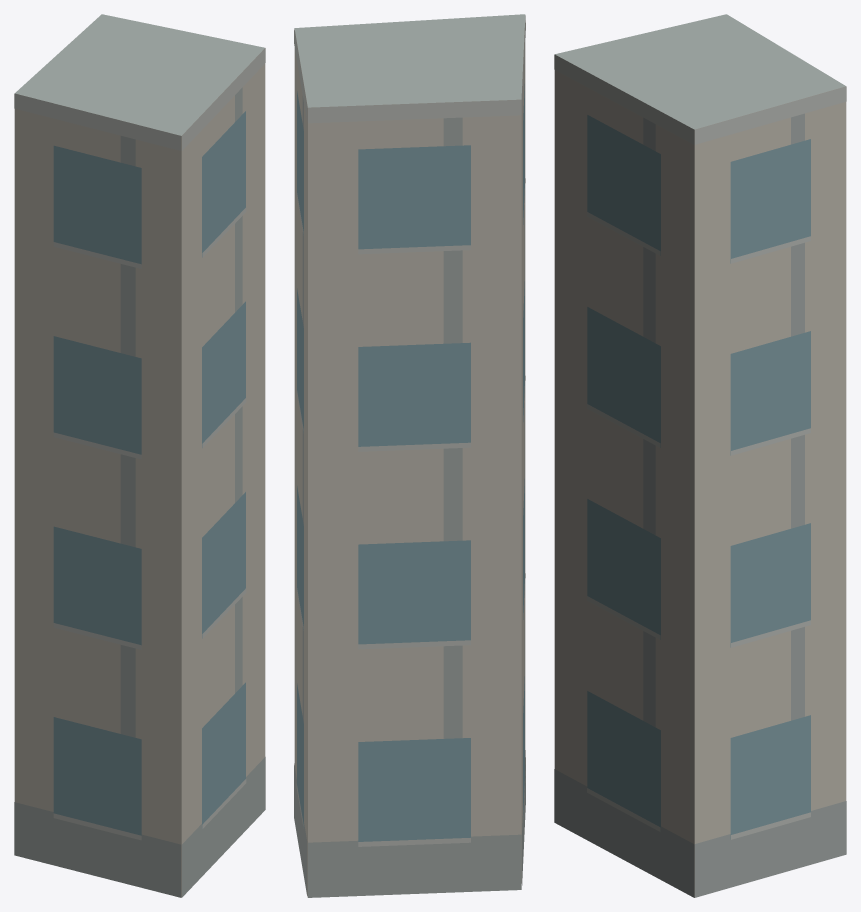
File: survey-upis-32517354.glb
3 renders of one model, left to right at view 1: azimuth 30°, elevation 25°; view 2: azimuth 150°, elevation 25°; view 3: azimuth 270°, elevation 25°, orthographic. The views are drawn at different scales.
Visible parts, largest first — view 1: survey-upis-32517354.tmp; view 2: survey-upis-32517354.tmp; view 3: survey-upis-32517354.tmp.
Boxes of the visible parts, left/top/right/bottom form: survey-upis-32517354.tmp: left=14, top=14, right=265, bottom=897; survey-upis-32517354.tmp: left=294, top=14, right=525, bottom=897; survey-upis-32517354.tmp: left=554, top=14, right=846, bottom=897.
Bounding box in the file's own units: 3.95 × 12.2 × 4.21.
